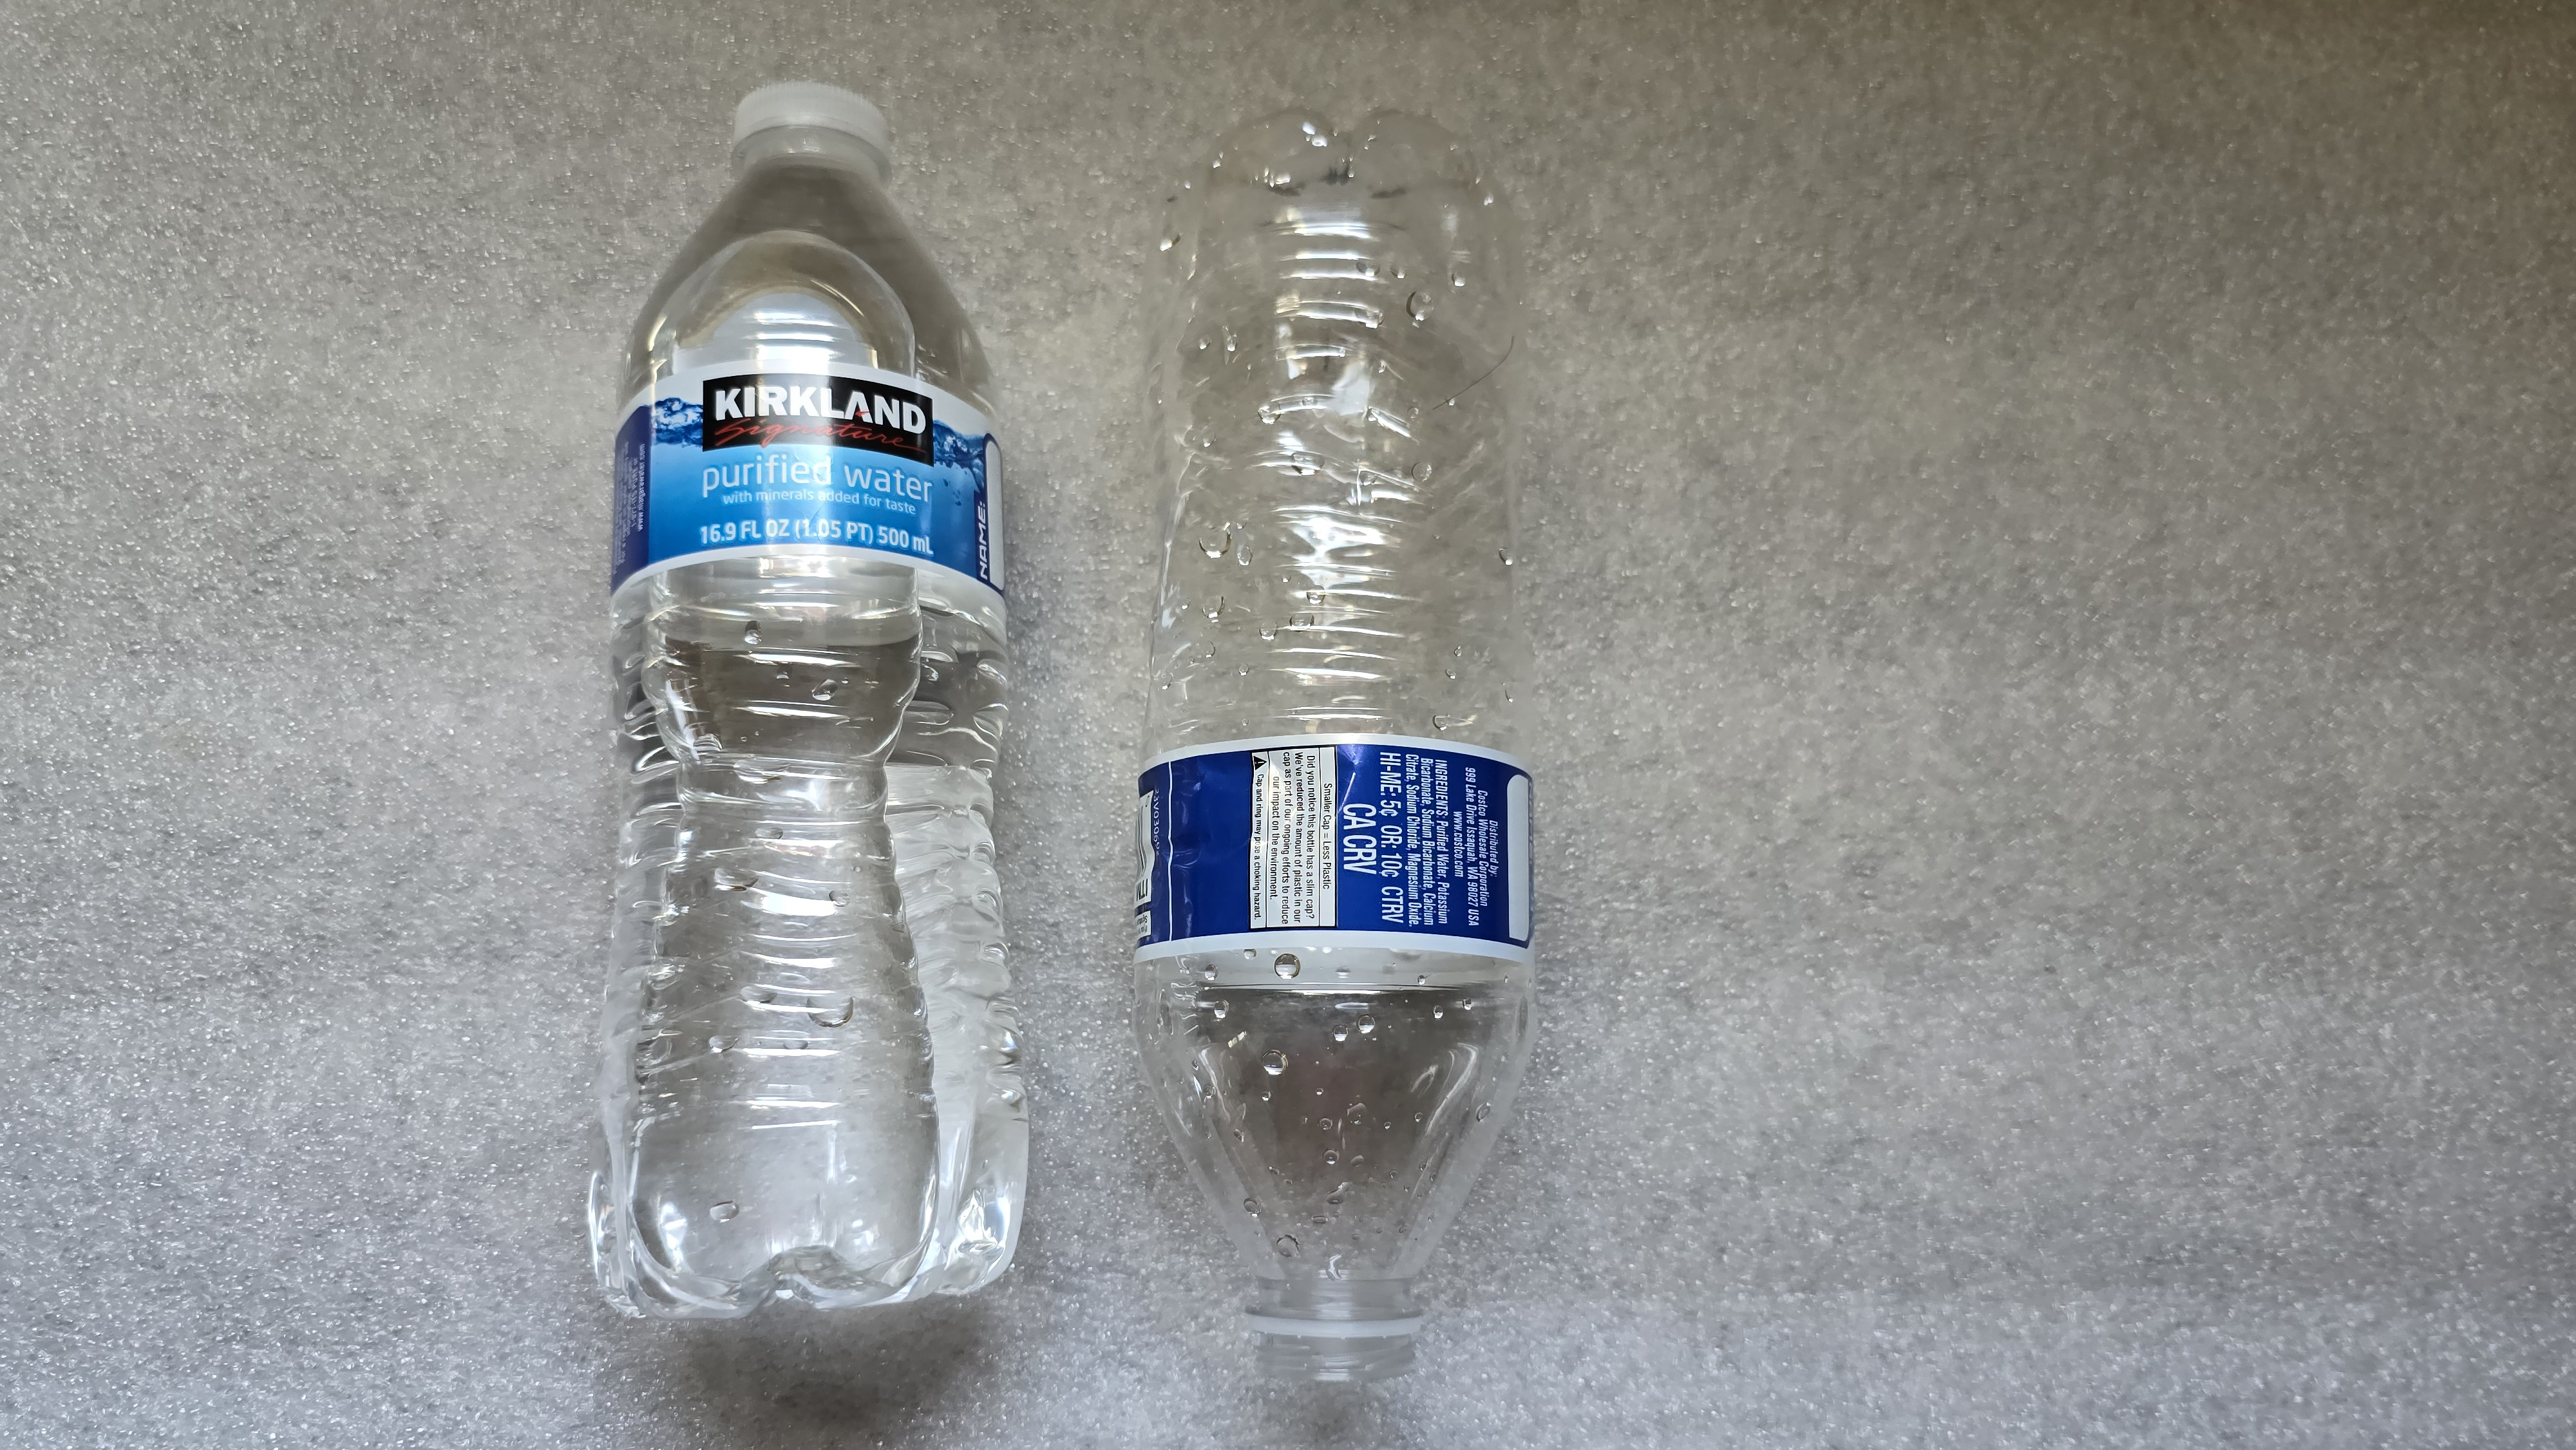bottle: (580, 51, 1046, 1332), (1146, 88, 1522, 1416)
